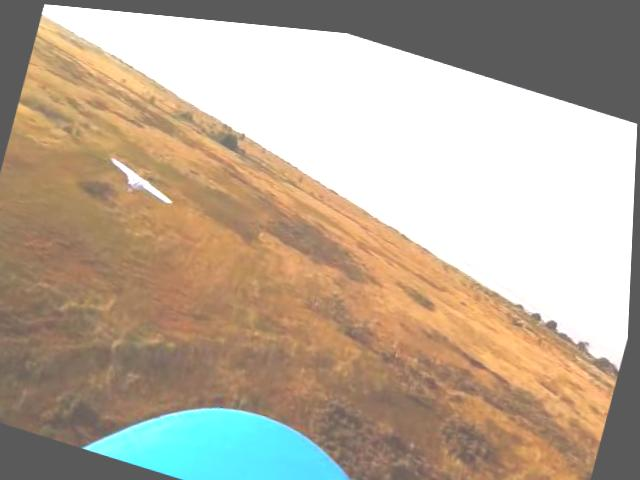uav: (104, 150, 184, 206)
